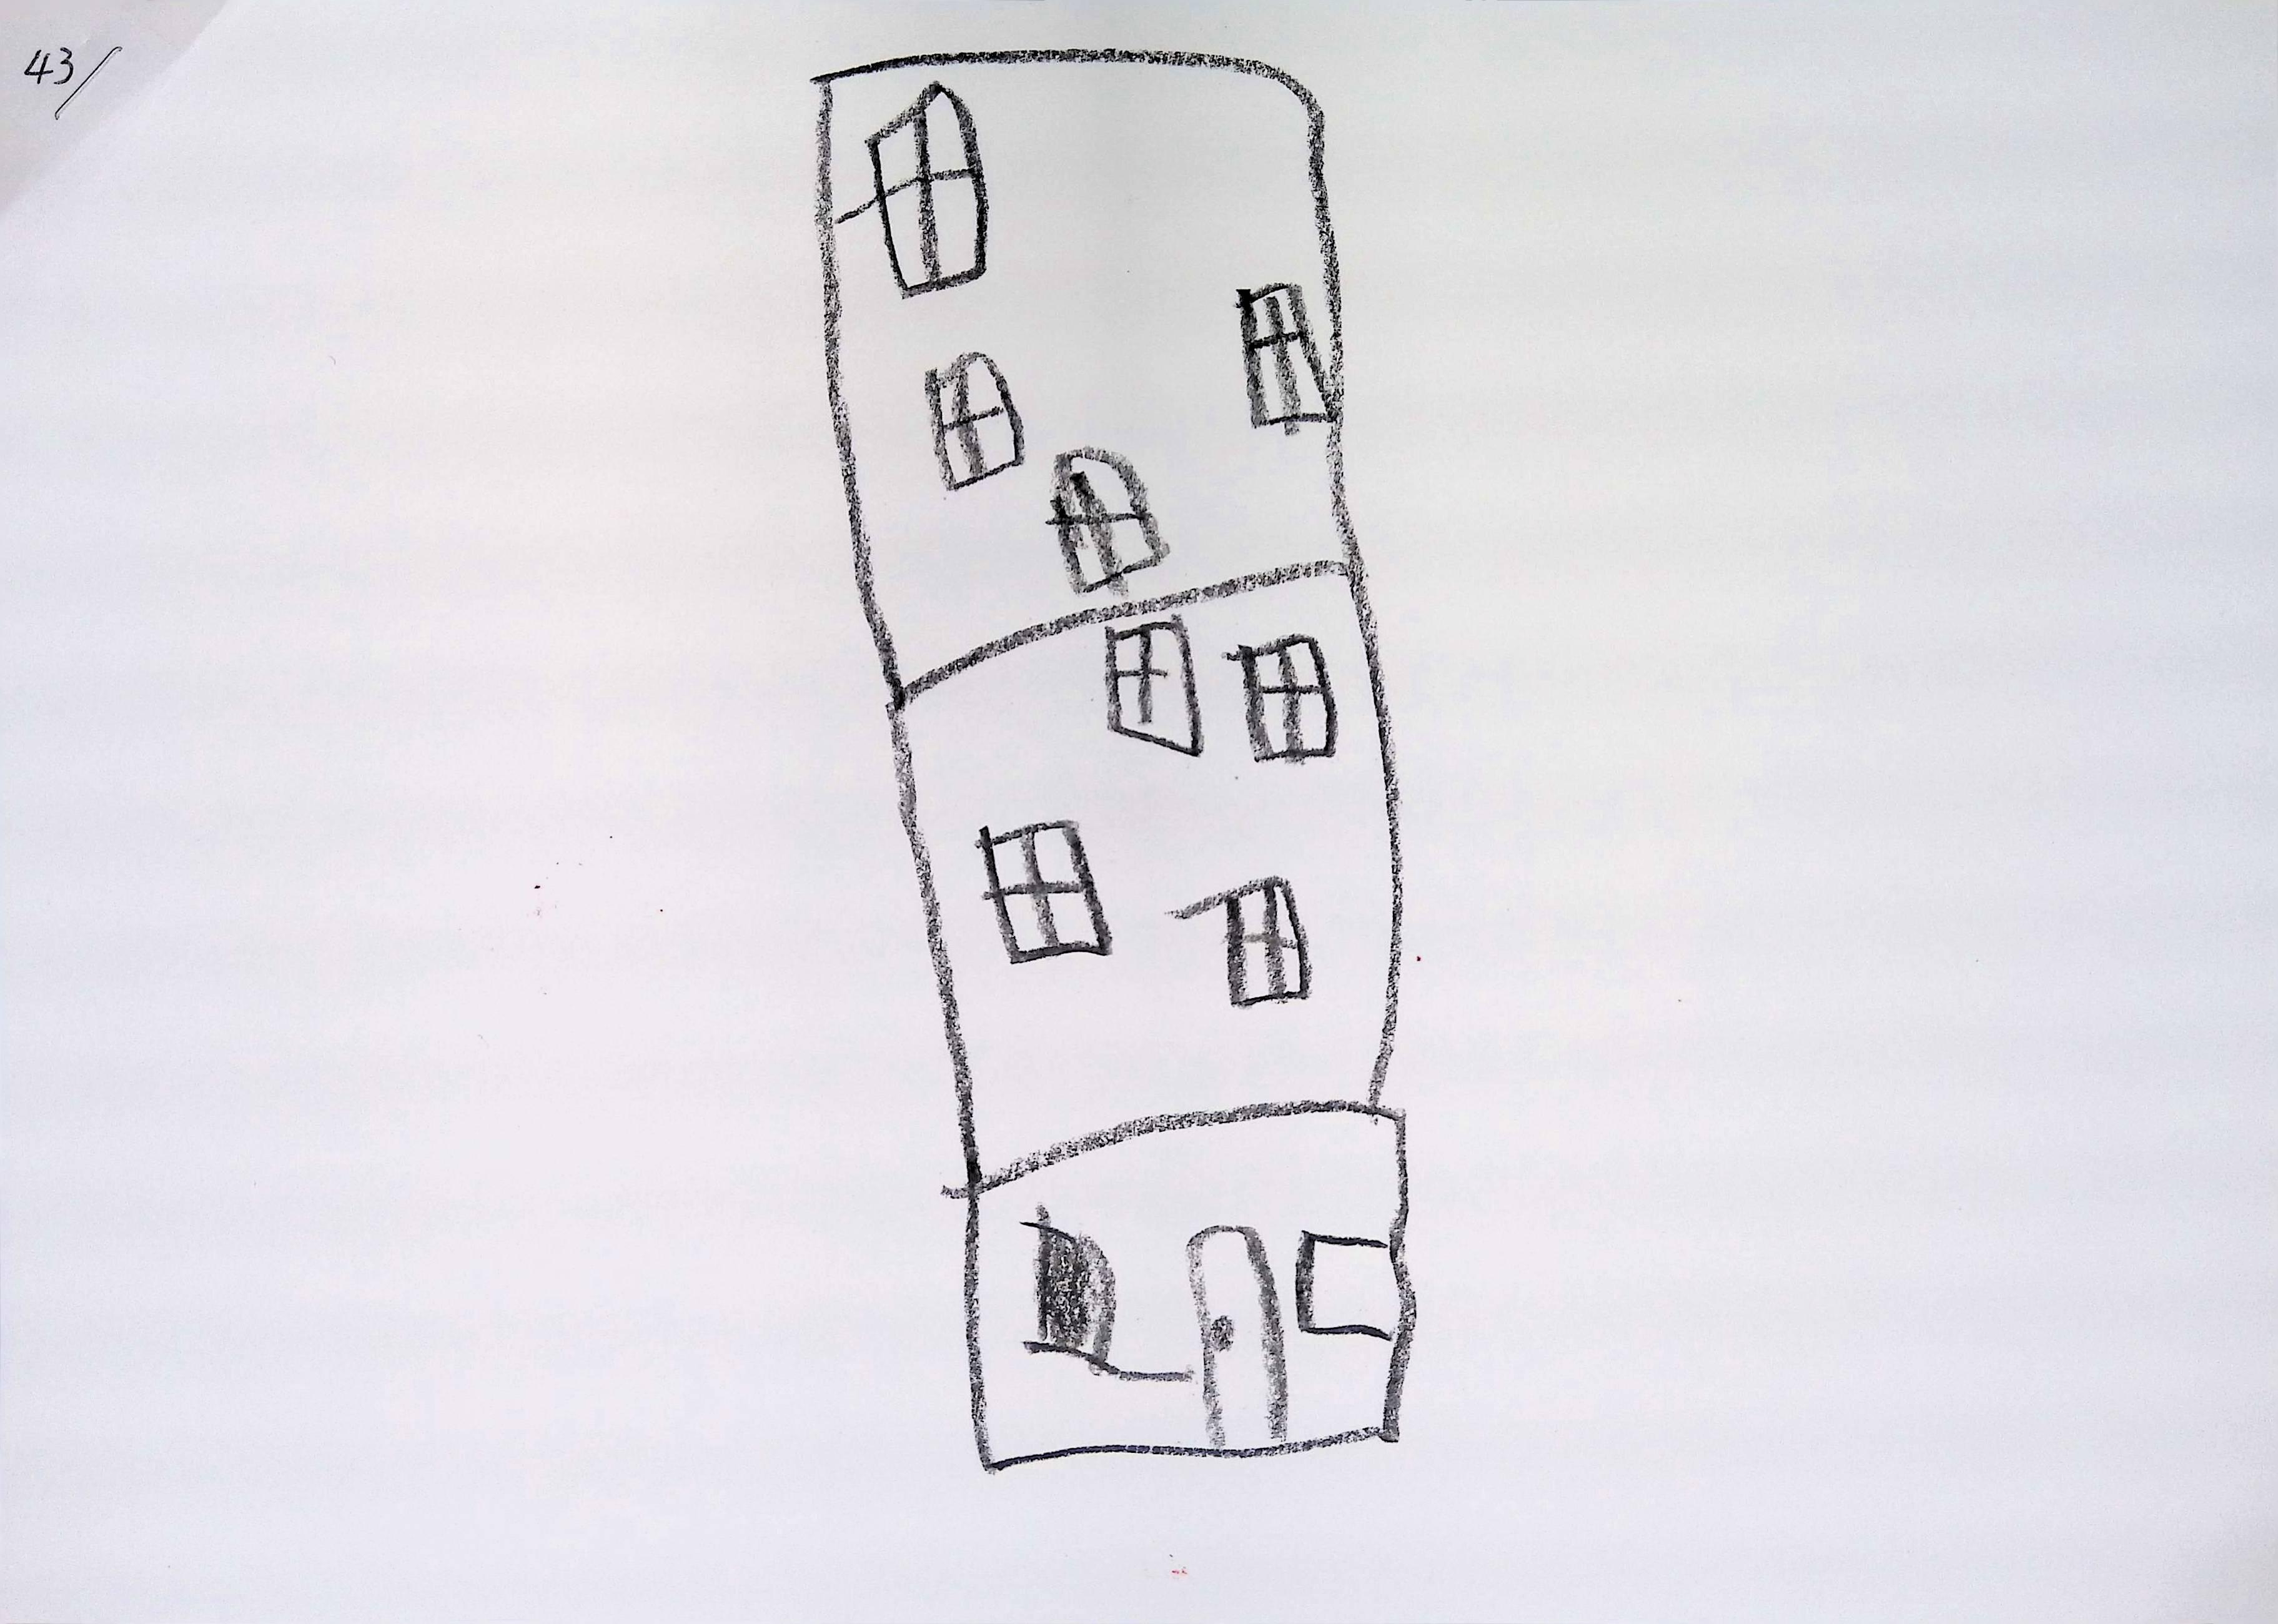door: (1188, 1225, 1288, 1448)
house: (816, 42, 1418, 1473)
wall: (816, 44, 1418, 1473)
window: (838, 79, 986, 294), (977, 819, 1111, 963), (1048, 445, 1169, 592), (1021, 1206, 1128, 1373), (1237, 279, 1334, 431), (1225, 633, 1338, 761), (925, 348, 1023, 489), (1106, 615, 1204, 754), (1215, 875, 1311, 1007), (1295, 1230, 1394, 1341)
